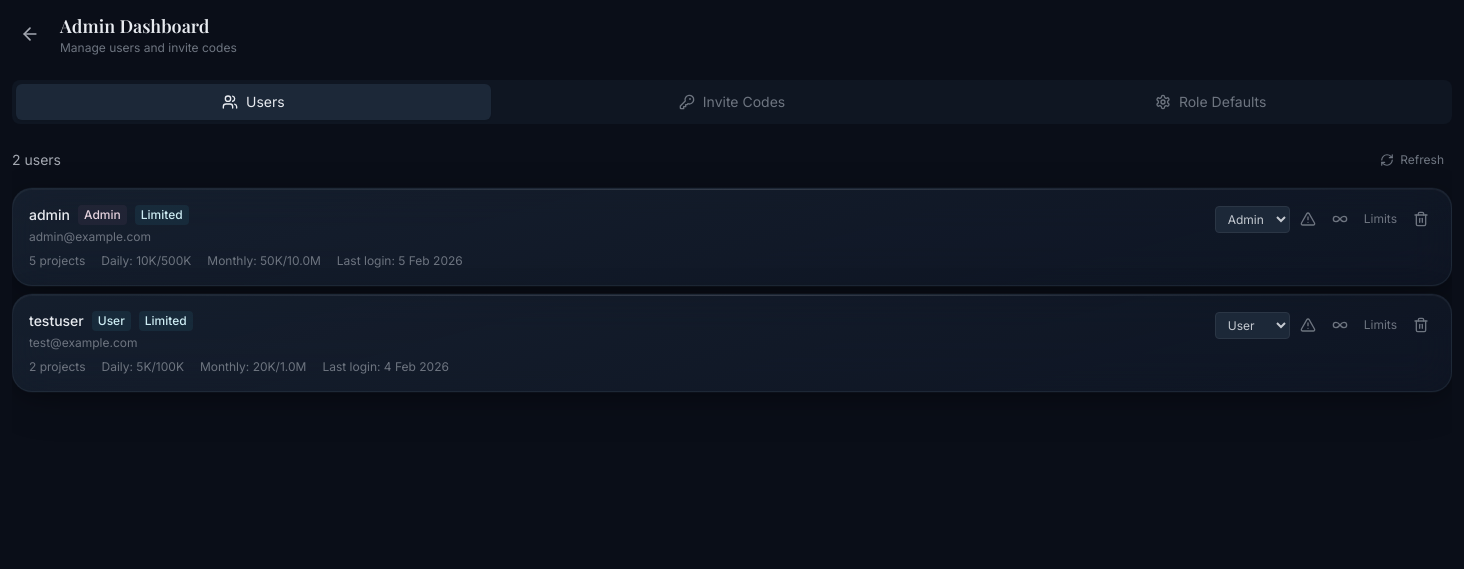
Test: AdminDashboard › shows edit limits panel when Limits button clicked
Click the button titled "Edit limits" in the row of "test@example.com". click: (1380, 325)
box: [1358, 311, 1403, 339]
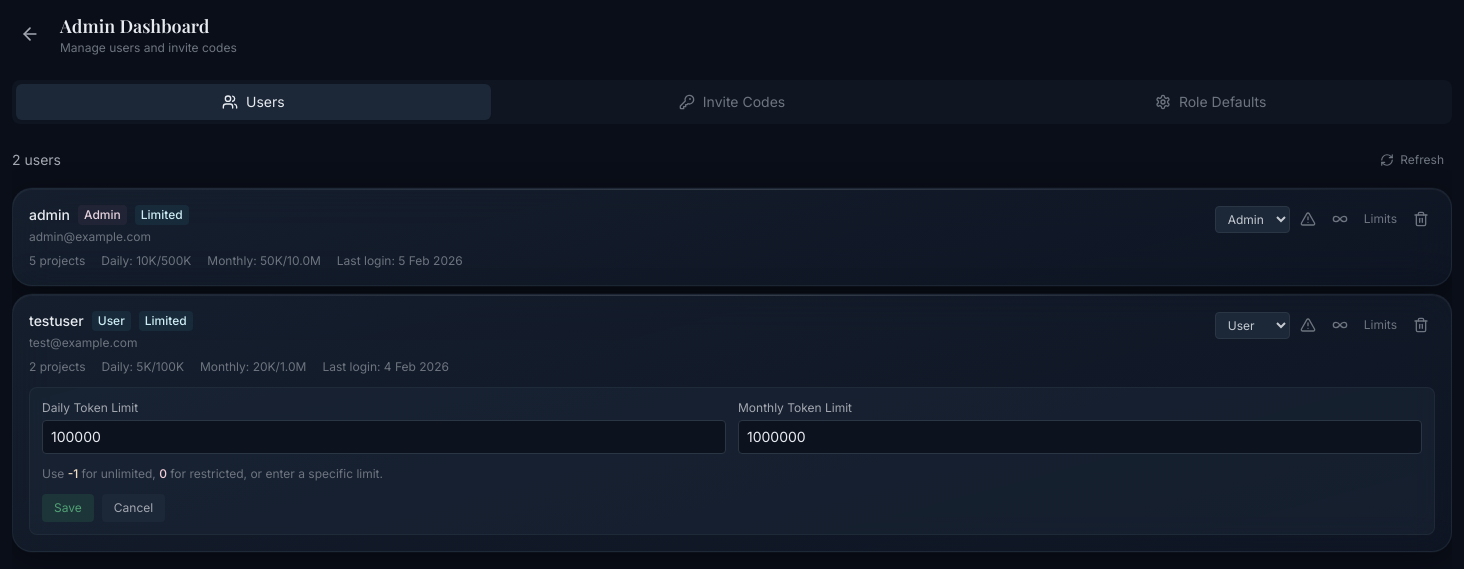
Check: the text "Daily Token Limit" is shown, box [42, 400, 138, 415]
Check: the text "Monthly Token Limit" is shown, box [738, 400, 852, 415]
Check: the button "Save" is shown, box [42, 494, 94, 522]
